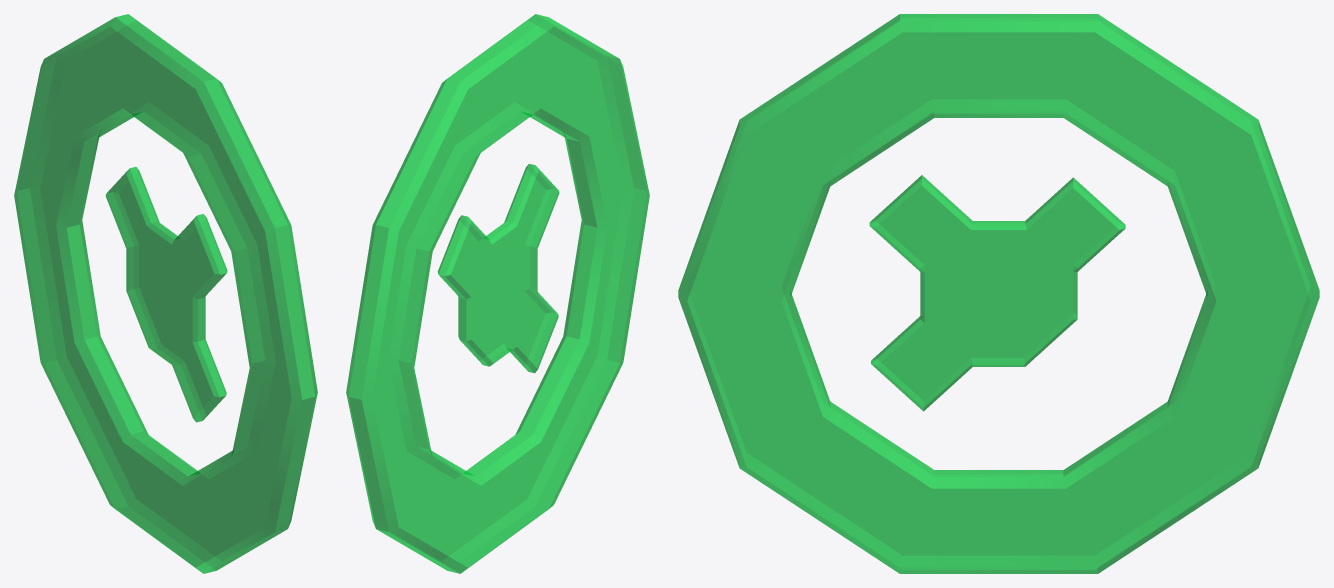
The model's file is HalberdIcon.fbx.
3 views of the same model, side by side, from view 1: azimuth 30°, elevation 25°; view 2: azimuth 150°, elevation 25°; view 3: azimuth 270°, elevation 25° (orthographic). The views are drawn at different scales.
Visible parts, largest first — view 1: HalberdIcon; view 2: HalberdIcon; view 3: HalberdIcon.
Boxes of the visible parts, bbox=[...] form: HalberdIcon: bbox=[14, 14, 317, 573]; HalberdIcon: bbox=[346, 14, 649, 573]; HalberdIcon: bbox=[678, 14, 1319, 573].
Size of the model in its own units: 1 by 17.94 by 18.87.
